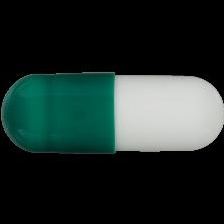60505-3121: (0, 0, 224, 224)
